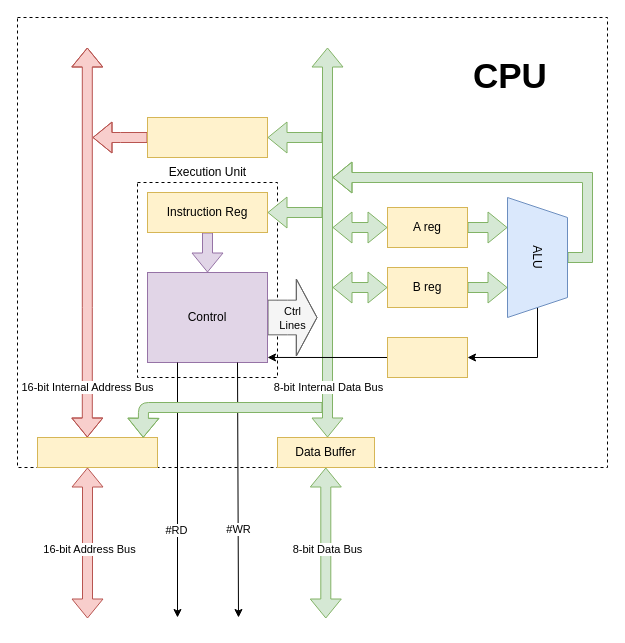
Image size: 625x643. Some labels were removed from this diagram. Each missing label, with the centre of its shape:
"Address Latch" goes at point 97,452.
"Flag reg" goes at point 427,357.
"Program Counter" goes at point 207,137.
